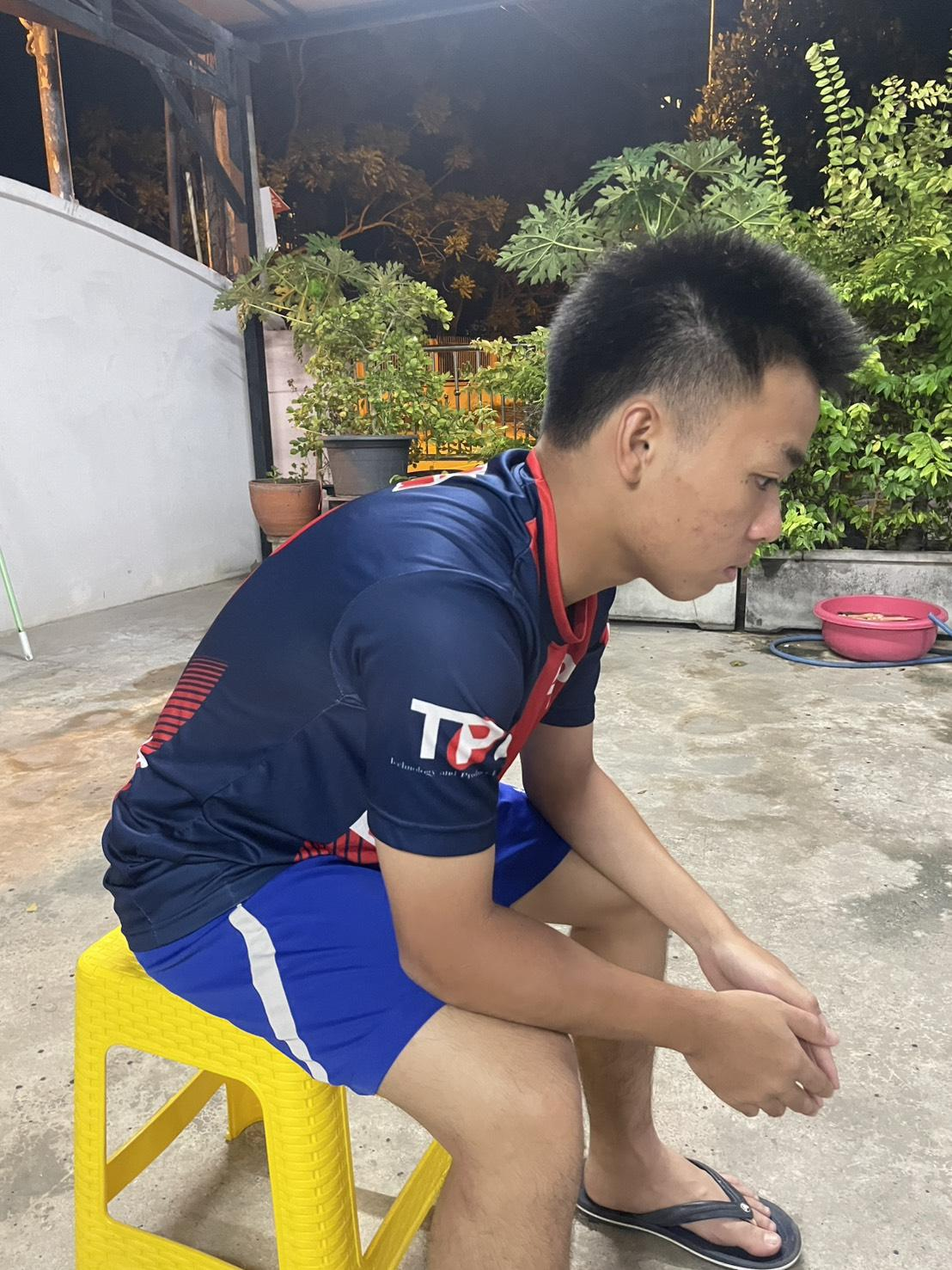BadPosture: (103, 231, 863, 867)
